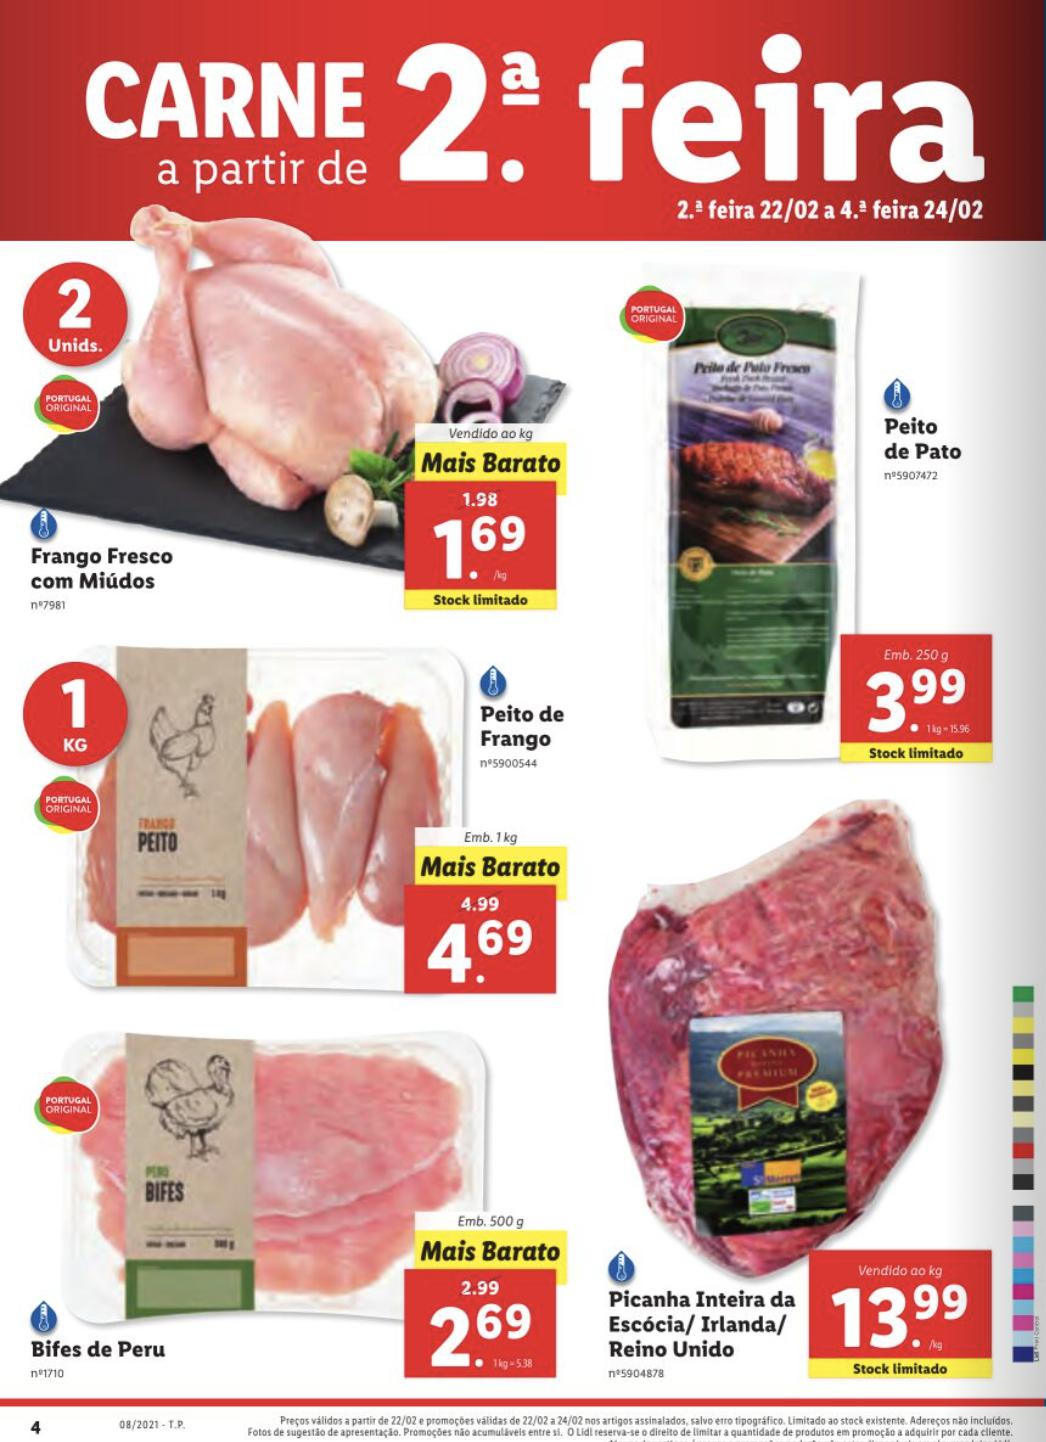name: (607, 1284, 800, 1361), (28, 543, 180, 594), (880, 414, 975, 470), (475, 704, 573, 753), (24, 1335, 175, 1363)
price: (826, 1284, 969, 1359), (421, 1298, 541, 1371), (421, 916, 532, 987), (867, 669, 978, 739), (435, 516, 535, 586)
product: (591, 759, 1000, 1390), (7, 207, 571, 643), (600, 263, 1035, 779), (7, 643, 601, 1018), (12, 1018, 601, 1389)
